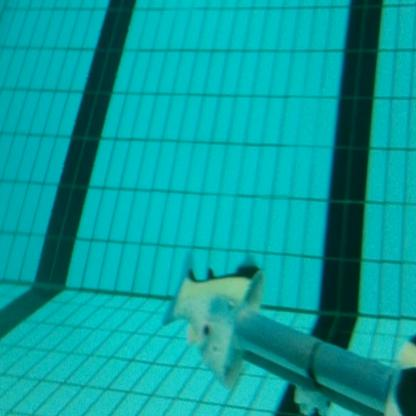tail: (161, 247, 264, 392)
